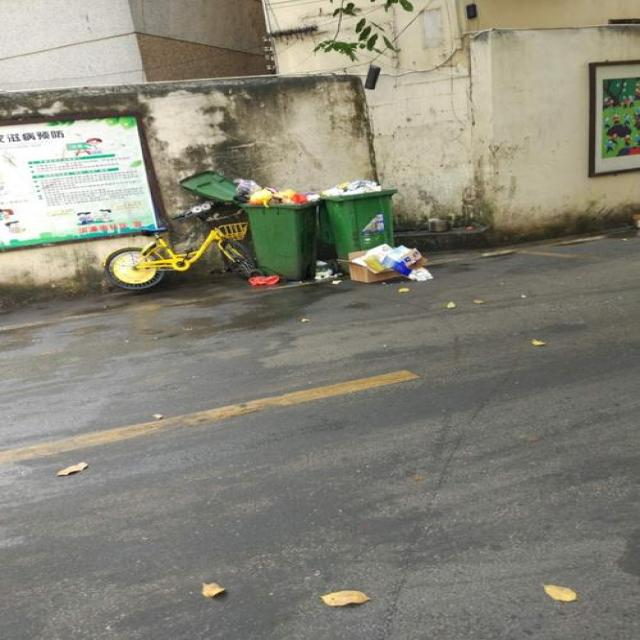garbage: (312, 242, 434, 282), (247, 273, 278, 284)
overflow: (232, 177, 320, 279), (318, 180, 398, 272)
